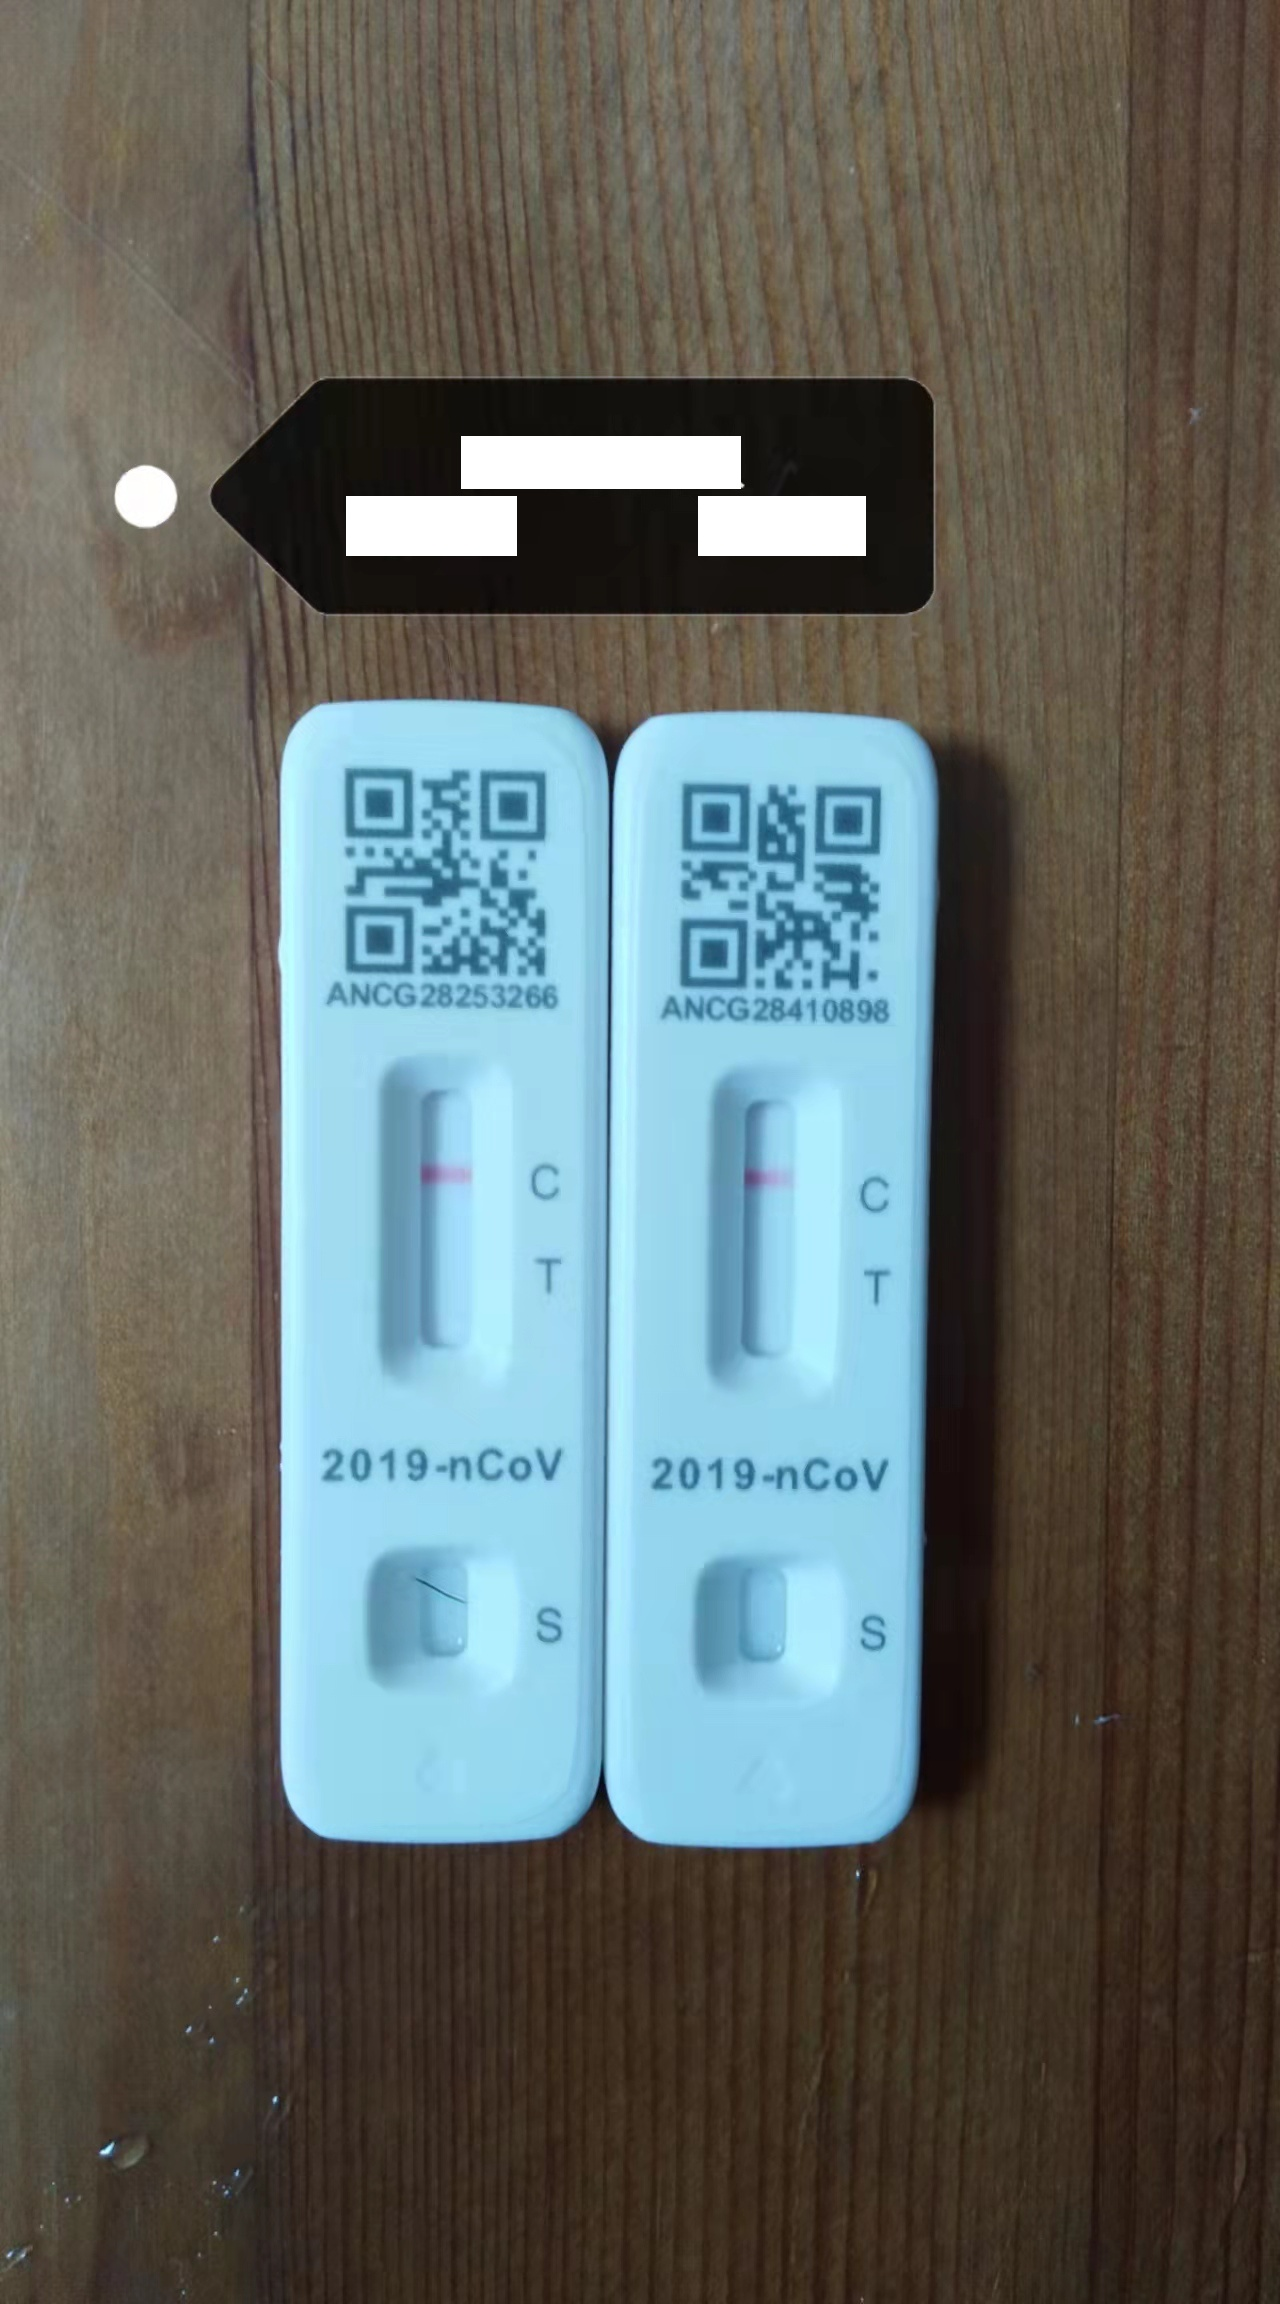negative: (375, 1050, 498, 1407), (708, 1072, 832, 1404)
